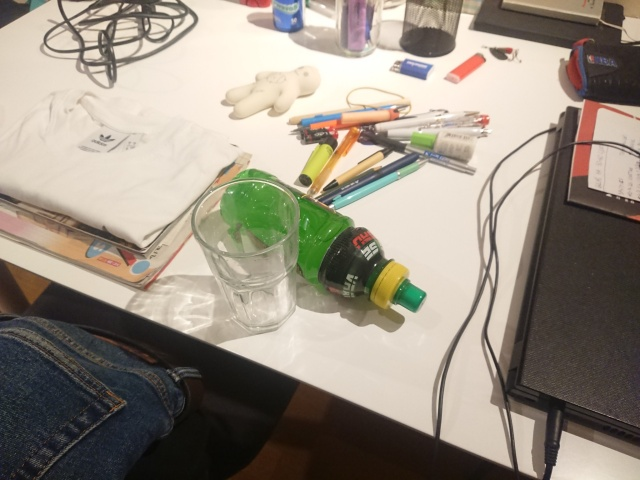Vindi Iso Sport Lemon-Grapefruit 500mL: (217, 166, 429, 315)
